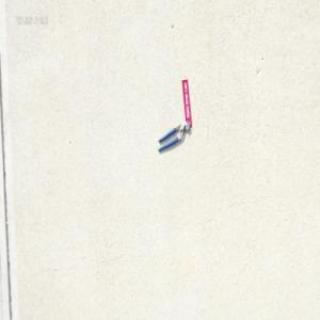LuggageTagtrack_idkeyframe: (180, 76, 192, 126)
Pliertrack_idkeyframe: (156, 119, 189, 152)
